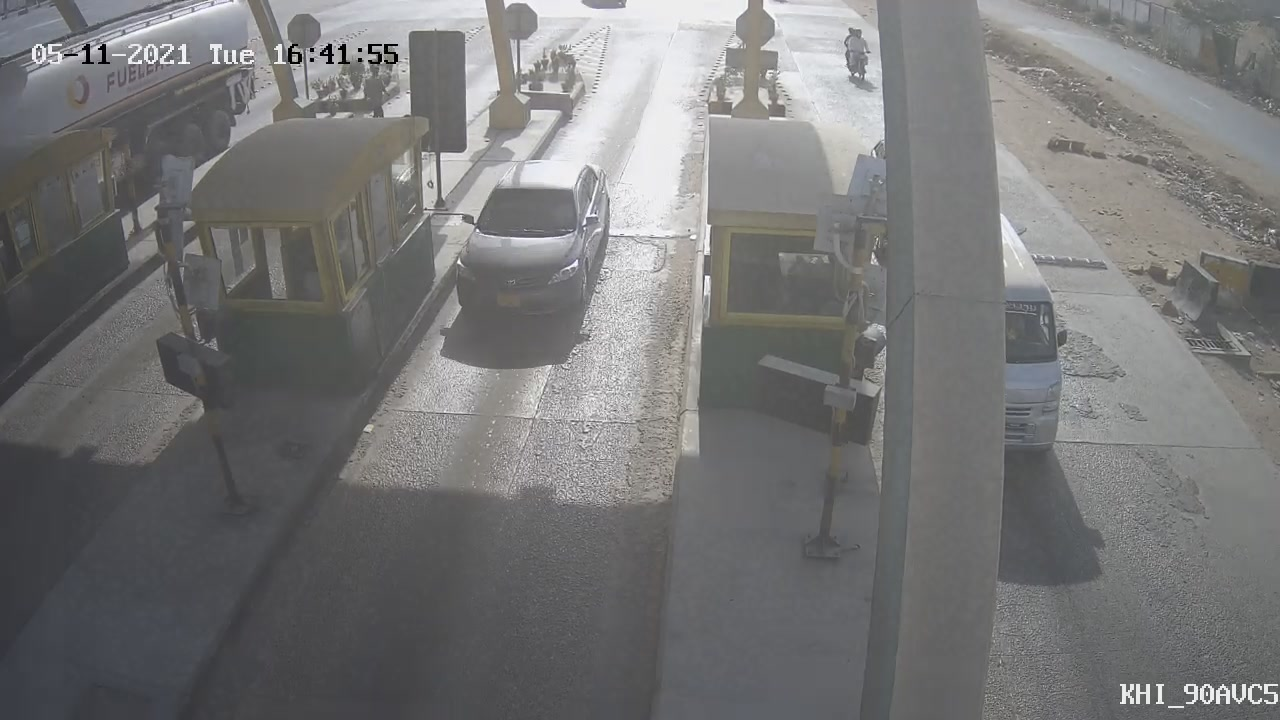F1: (438, 140, 624, 342)
